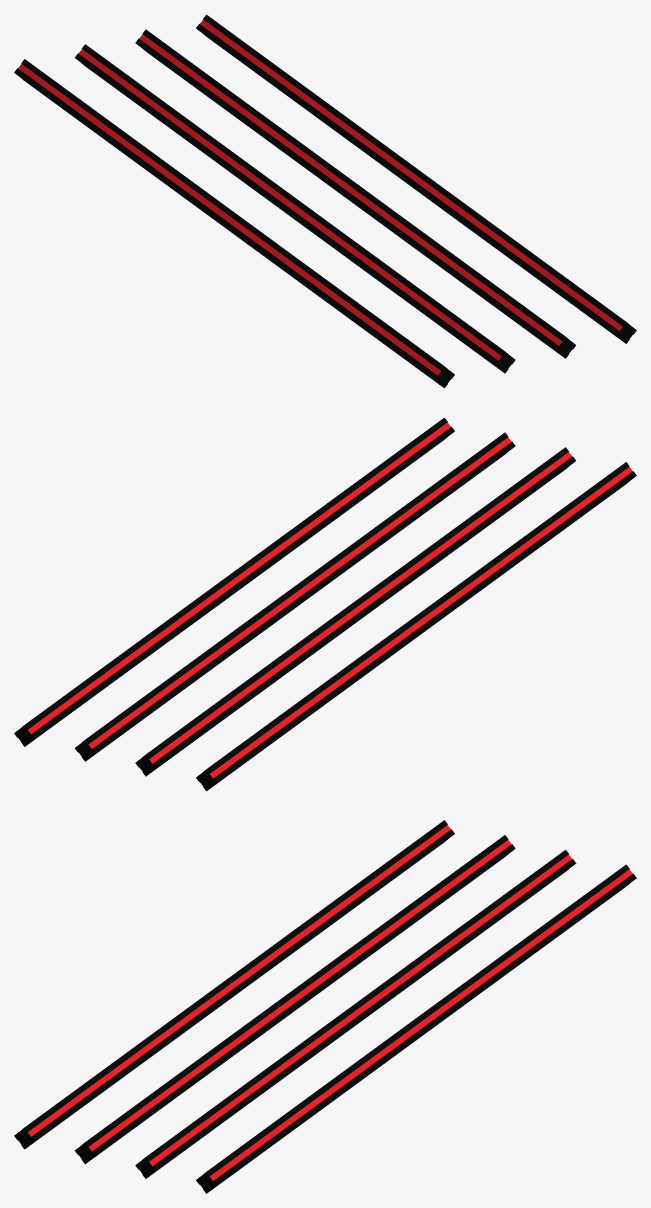
The model's file is bars.fbx.
The picture shows the model from 3 angles, top to bottom: view 1: azimuth 30°, elevation 25°; view 2: azimuth 150°, elevation 25°; view 3: azimuth 330°, elevation 25°; orthographic projection.
Parts seen in each view (by area): view 1: Cube.001, Cube.003, Cube.002, Cube.004; view 2: Cube.001, Cube.003, Cube.002, Cube.004; view 3: Cube.001, Cube.003, Cube.002, Cube.004.
Part boxes in pixels (box(x1,y1,x2,y2)): Cube.001: box(75, 44, 515, 373); Cube.003: box(135, 29, 575, 358); Cube.002: box(14, 59, 454, 388); Cube.004: box(196, 14, 636, 343); Cube.001: box(135, 447, 575, 776); Cube.003: box(75, 432, 515, 761); Cube.002: box(196, 462, 636, 791); Cube.004: box(14, 417, 454, 746); Cube.001: box(74, 835, 515, 1164); Cube.003: box(135, 849, 576, 1178); Cube.002: box(14, 820, 454, 1149); Cube.004: box(196, 864, 636, 1193).
Bounding box in the file's own units: 335 × 35.14 × 1200.
